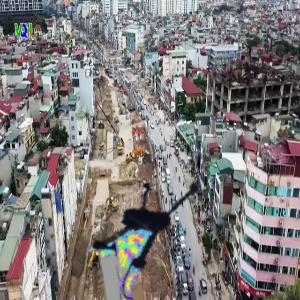drone: (83, 152, 228, 297)
